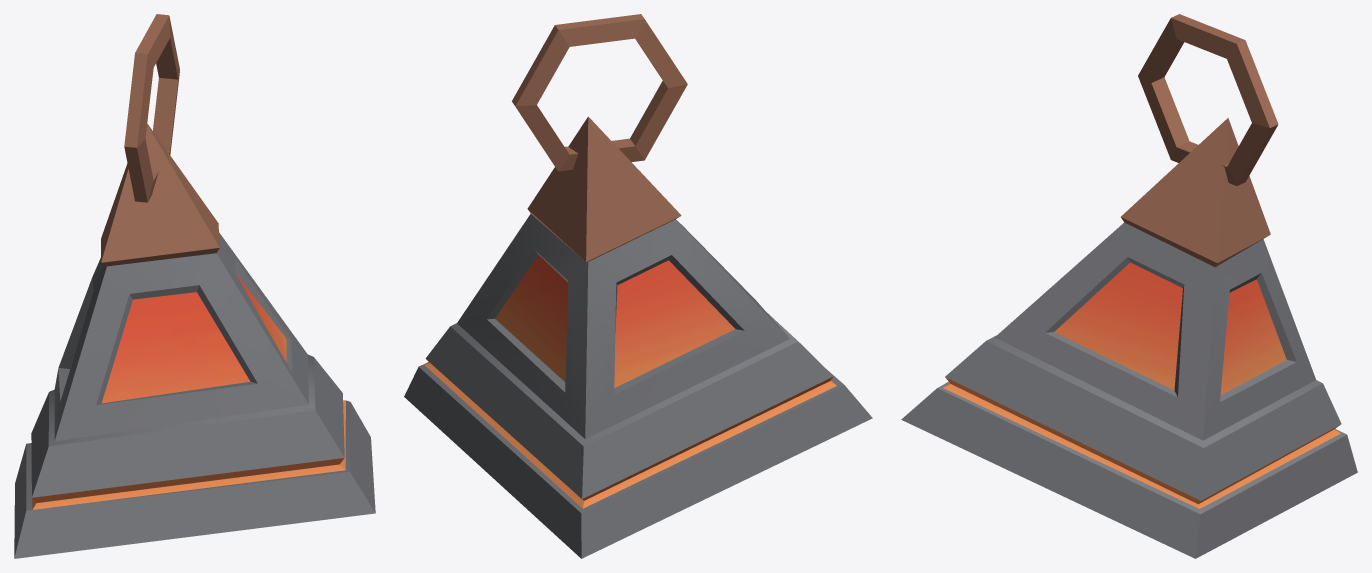
The model's file is trinketTalent.fbx.
3 views of the same model, side by side, from view 1: azimuth 30°, elevation 25°; view 2: azimuth 150°, elevation 25°; view 3: azimuth 270°, elevation 25° (orthographic). The views are drawn at different scales.
Visible parts, largest first — view 1: trinketTalent; view 2: trinketTalent; view 3: trinketTalent.
Boxes of the visible parts, box(x1,y1,x2,y2) form: trinketTalent: box(14, 14, 375, 558); trinketTalent: box(404, 14, 872, 558); trinketTalent: box(901, 14, 1357, 558).
Size of the model in its own units: 2.26 by 2.51 by 2.2.
